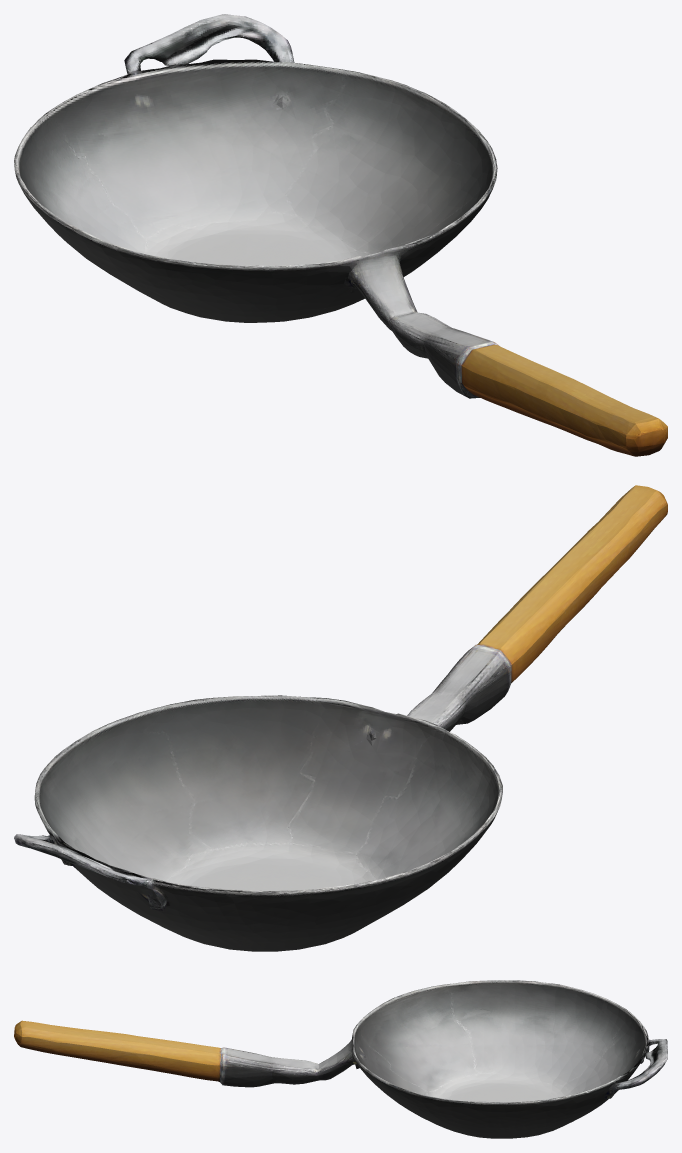
File: wok.glb
3 renders of one model, top to bottom at view 1: azimuth 30°, elevation 25°; view 2: azimuth 150°, elevation 25°; view 3: azimuth 270°, elevation 25°, orthographic. The views are drawn at different scales.
Visible parts, largest first — view 1: world; view 2: world; view 3: world.
Part boxes in pixels (x1,y1,x2,y2): world: (14,14,667,456); world: (14,485,667,951); world: (14,980,667,1138).
Size of the model in its own units: 0.4442 by 0.1501 by 1.
1 material, 1 textured.
